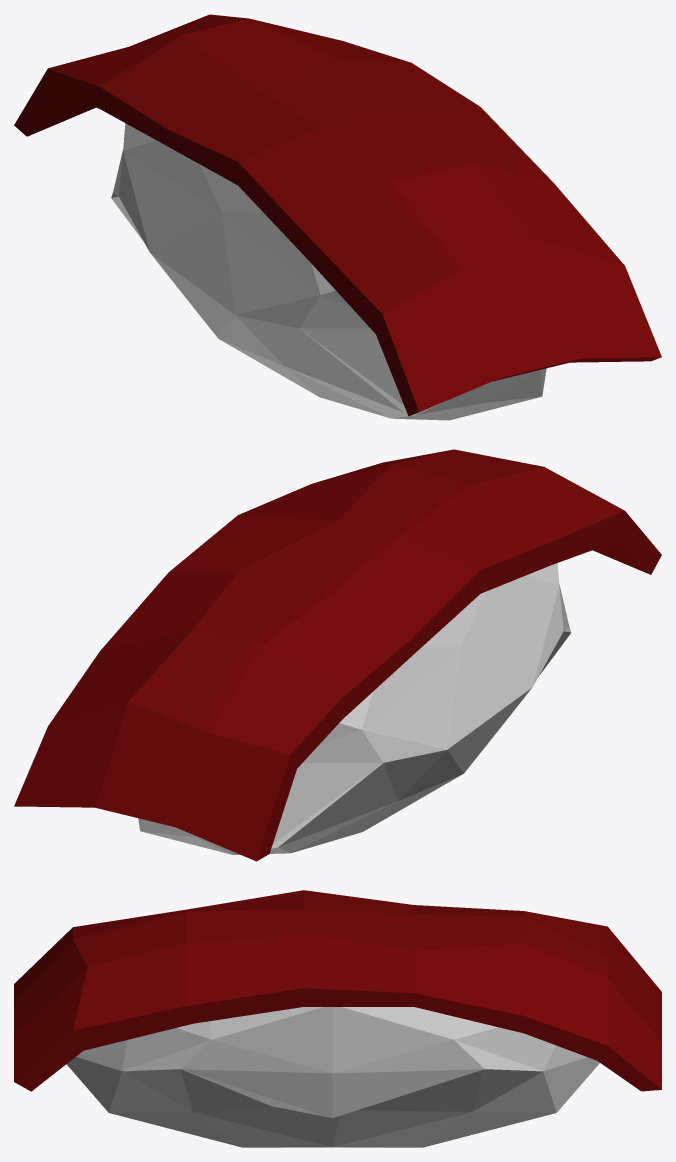
File: maguro.fbx
The picture shows the model from 3 angles, top to bottom: view 1: azimuth 30°, elevation 25°; view 2: azimuth 150°, elevation 25°; view 3: azimuth 270°, elevation 25°; orthographic projection. The views are drawn at different scales.
Visible parts, largest first — view 1: Maguro, Rice; view 2: Maguro, Rice; view 3: Maguro, Rice.
Boxes of the visible parts, bbox=[...] form: Maguro: bbox=[14, 14, 661, 416]; Rice: bbox=[111, 123, 546, 420]; Maguro: bbox=[14, 449, 661, 861]; Rice: bbox=[138, 563, 571, 854]; Maguro: bbox=[14, 890, 661, 1091]; Rice: bbox=[66, 1007, 599, 1147].
Size of the model in its own units: 2.12 by 1.81 by 5.41.
